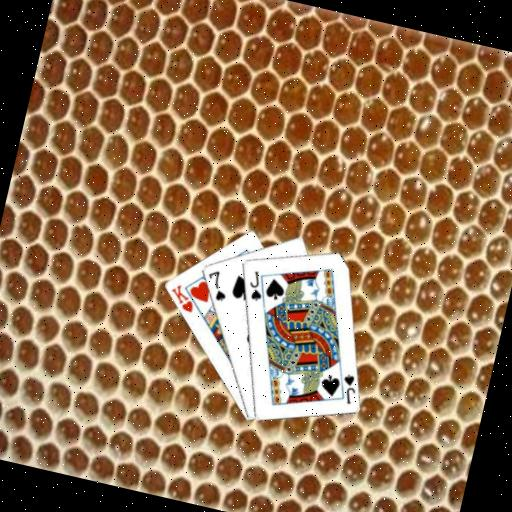7S: (200, 265, 233, 304)
JS: (243, 266, 269, 303), (335, 369, 361, 406)
KH: (164, 280, 200, 315)
